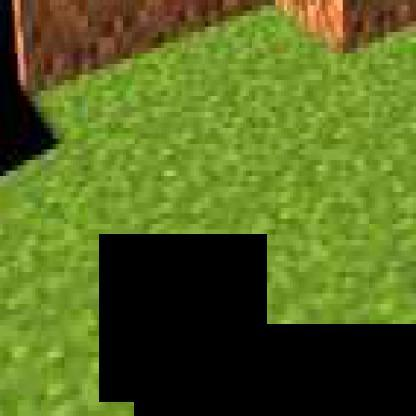minecraft-pigs: (407, 0, 413, 235)
